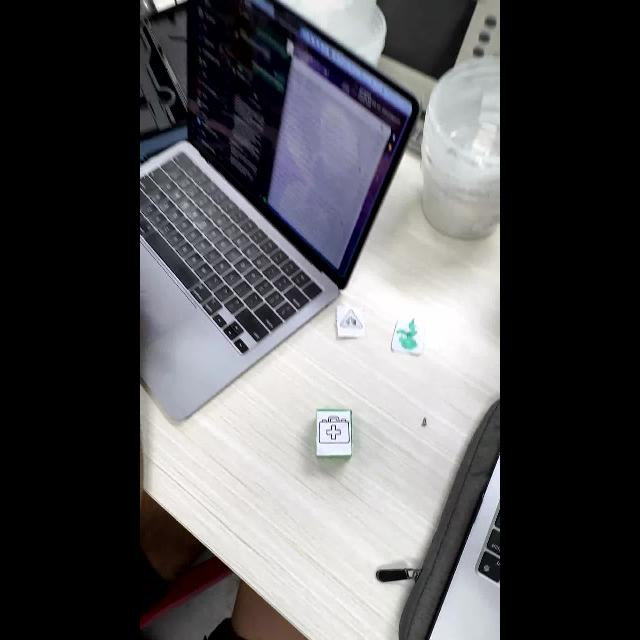Medkit: (317, 410, 350, 445)
